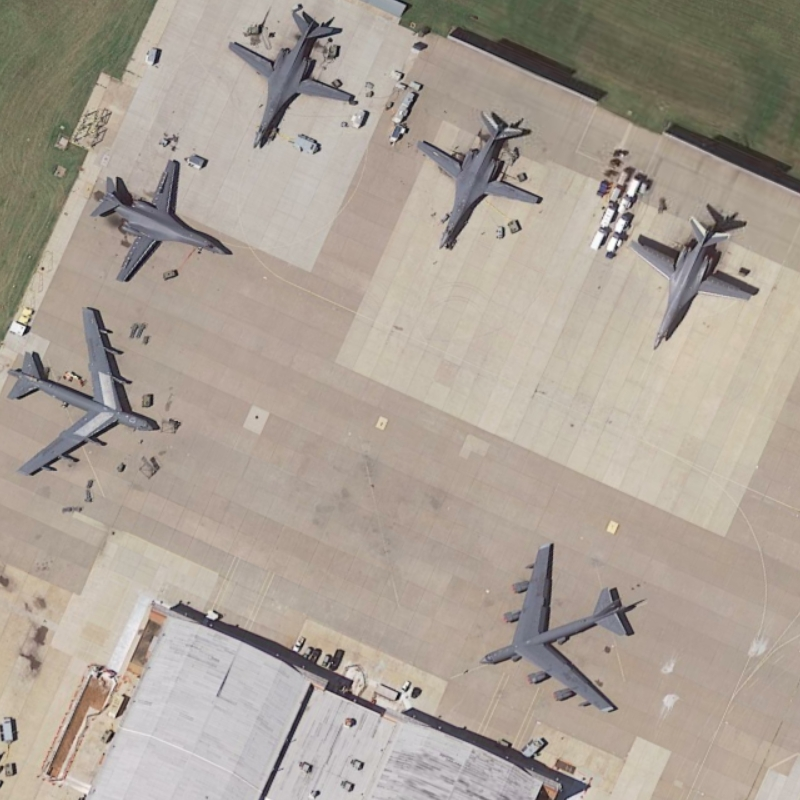A10: (622, 201, 764, 355), (409, 111, 549, 254), (223, 5, 357, 152), (89, 155, 234, 286)
A8: (473, 542, 633, 726), (7, 301, 167, 484)
